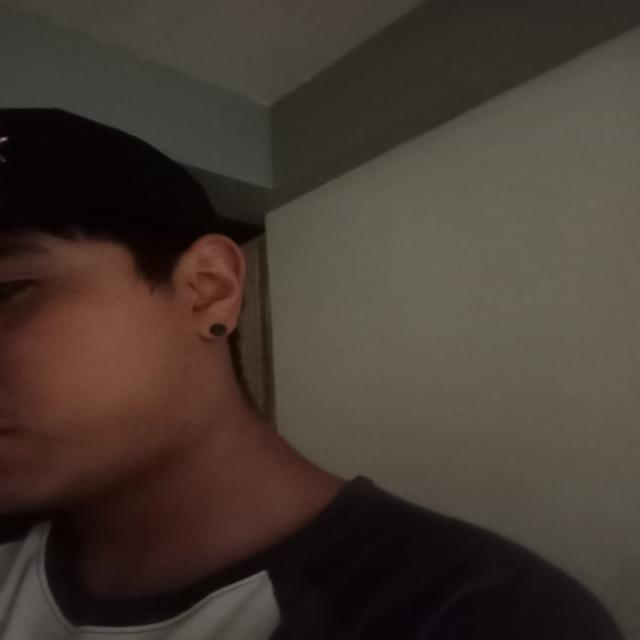ear: (168, 234, 245, 341)
